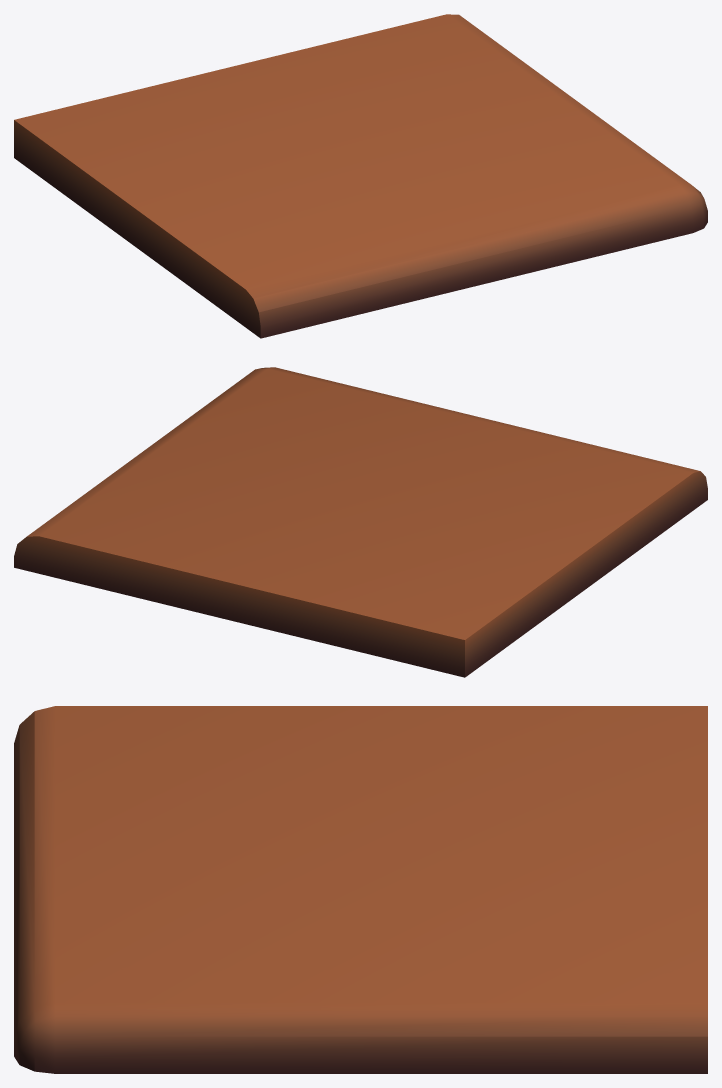
File: DirtCorner.fbx
The picture shows the model from 3 angles, top to bottom: view 1: azimuth 30°, elevation 25°; view 2: azimuth 150°, elevation 25°; view 3: azimuth 270°, elevation 25°; orthographic projection. The views are drawn at different scales.
Parts seen in each view (by area): view 1: Base.007; view 2: Base.007; view 3: Base.007.
Boxes of the visible parts, x1,y1,x2,y2 form: Base.007: [14, 14, 707, 338]; Base.007: [14, 367, 707, 677]; Base.007: [14, 706, 707, 1073].
Bounding box in the file's own units: 0.5466 × 0.0435 × 0.51.
